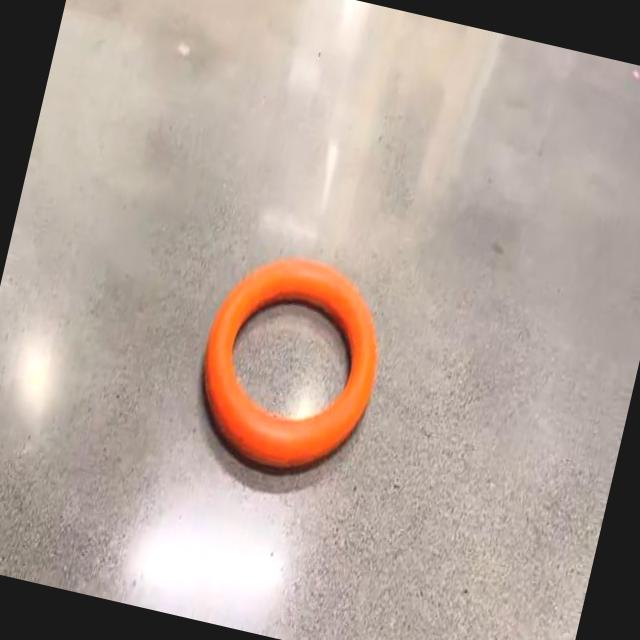note: (204, 258, 376, 467)
